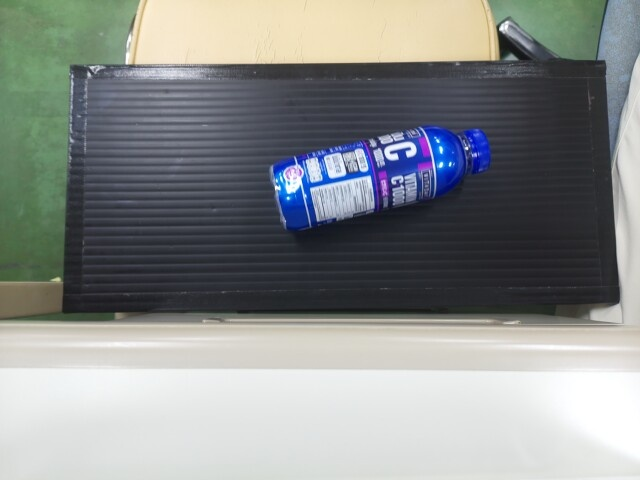plastic_bottle: (269, 124, 490, 231)
